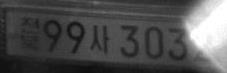0: (143, 25, 165, 60)
2: (193, 28, 215, 62)
3: (119, 24, 140, 58), (167, 26, 187, 61)
9: (64, 19, 86, 53), (42, 18, 63, 53)
사: (89, 23, 110, 54)
전북_V: (18, 16, 41, 55)
